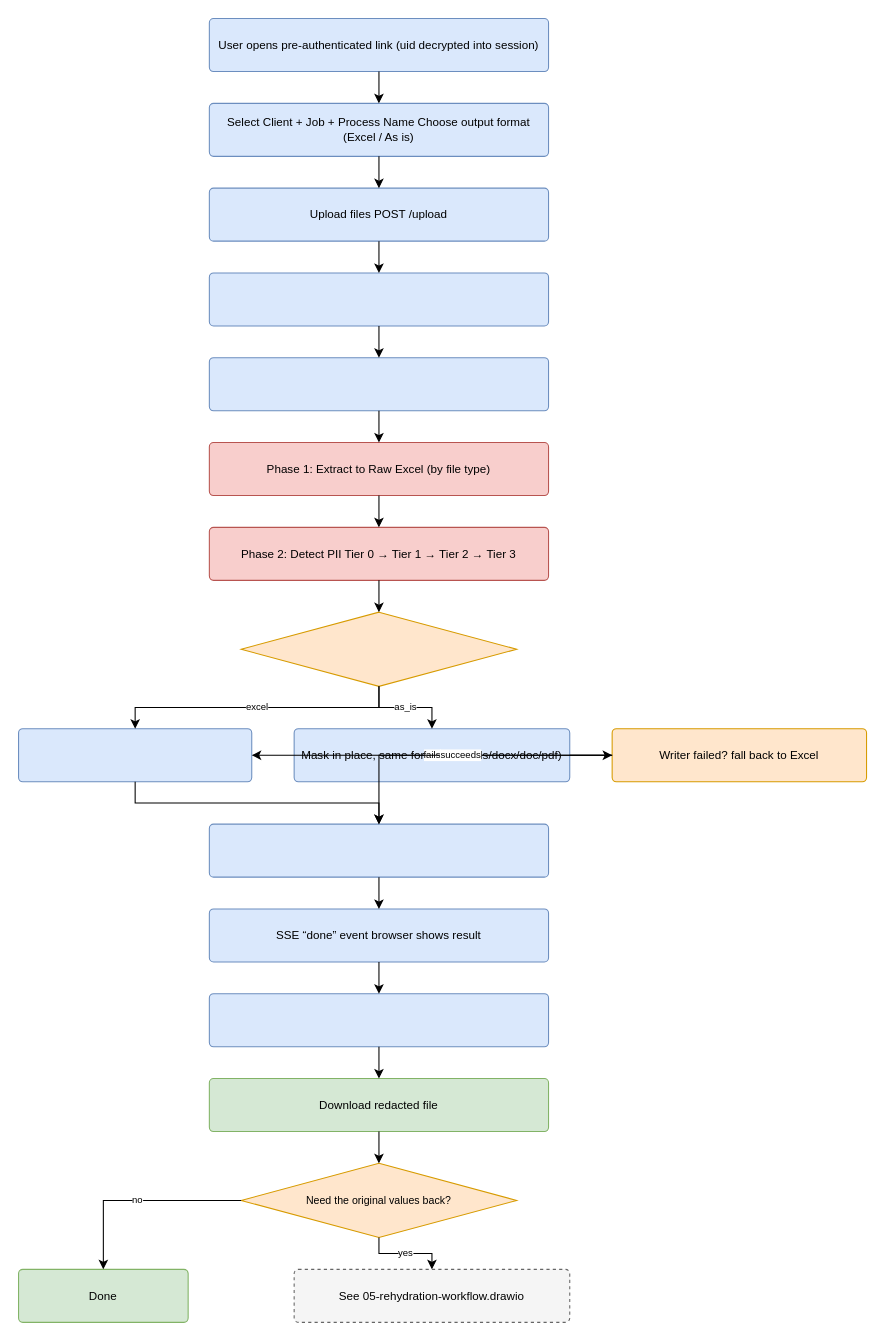
Some shapes in this 885 by 1341 pixel diagram are drawn without their labels. The box of each missing label's shape, as (x1, y1, x2, y2) in pixels:
Auto-load reference table + inline preview: (208, 993, 549, 1047)
Flatten + mask into new .xlsx: (17, 728, 252, 782)
Launch pipeline subprocess dual_redaction_pipeline.py --manifest: (208, 357, 549, 411)
Mint process_id + file_id per file Write manifest_{process_id}.json: (208, 272, 549, 326)
Output format?: (240, 611, 517, 686)
Write token rows to pii_redaction_map (MySQL): (208, 823, 549, 877)
